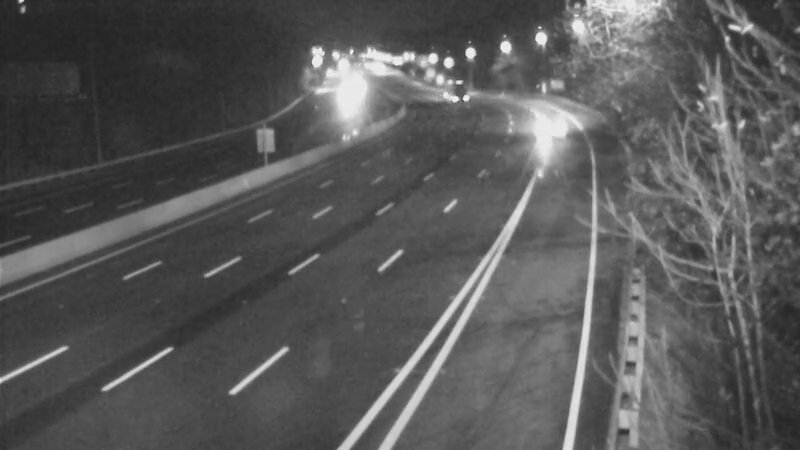vehicle: (424, 64, 474, 114), (524, 101, 574, 151), (320, 73, 370, 123)
